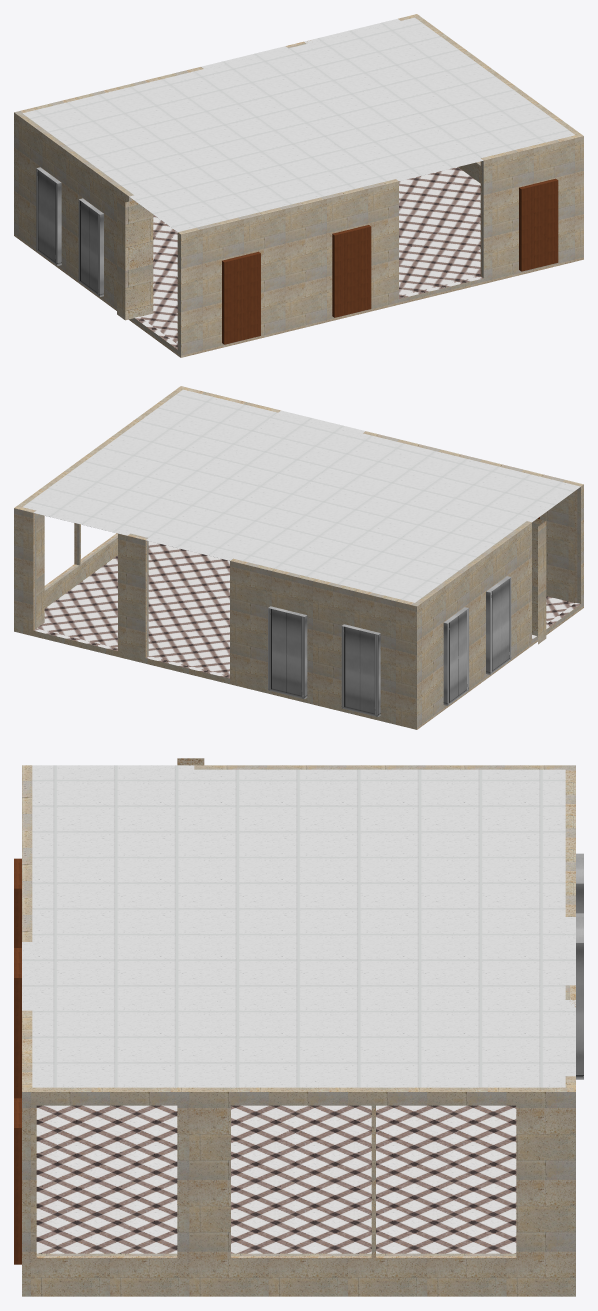
The model's file is crossroad_v3_texture.fbx.
3 renders of one model, top to bottom at view 1: azimuth 30°, elevation 25°; view 2: azimuth 150°, elevation 25°; view 3: azimuth 270°, elevation 25°, orthographic. The views are drawn at different scales.
Visible parts, largest first — view 1: Plane.363, Plane.364, door_elevator.112, door.048, column_6/8.014, door_elevator.111; view 2: Plane.363, Plane.364, door.047, door.048, column_6/8.014, column_1/4.016; view 3: Plane.363, Plane.364, door_elevator.112, door.047, door_elevator.111.
Boxes of the visible parts, left/top/right/bottom form: Plane.363: left=23, top=17, right=575, bottom=231; Plane.364: left=14, top=14, right=583, bottom=357; door_elevator.112: left=222, top=225, right=371, bottom=344; door.048: left=36, top=167, right=103, bottom=296; column_6/8.014: left=117, top=197, right=153, bottom=320; door_elevator.111: left=519, top=178, right=558, bottom=271; Plane.363: left=22, top=389, right=580, bottom=602; Plane.364: left=14, top=386, right=583, bottom=729; door.047: left=268, top=606, right=380, bottom=716; door.048: left=443, top=576, right=511, bottom=705; column_6/8.014: left=532, top=518, right=546, bottom=644; column_1/4.016: left=36, top=513, right=44, bottom=628; Plane.363: left=22, top=765, right=575, bottom=1087; Plane.364: left=22, top=765, right=575, bottom=1296; door_elevator.112: left=14, top=858, right=21, bottom=1098; door.047: left=576, top=853, right=583, bottom=1079; door_elevator.111: left=14, top=1098, right=21, bottom=1264.
Bounding box in the file's own units: 389 × 111 × 281.
